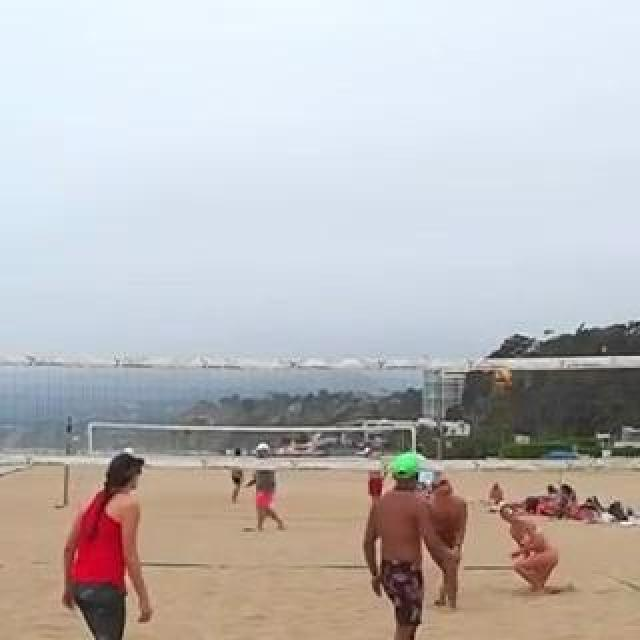volleyball: (493, 368, 513, 388)
